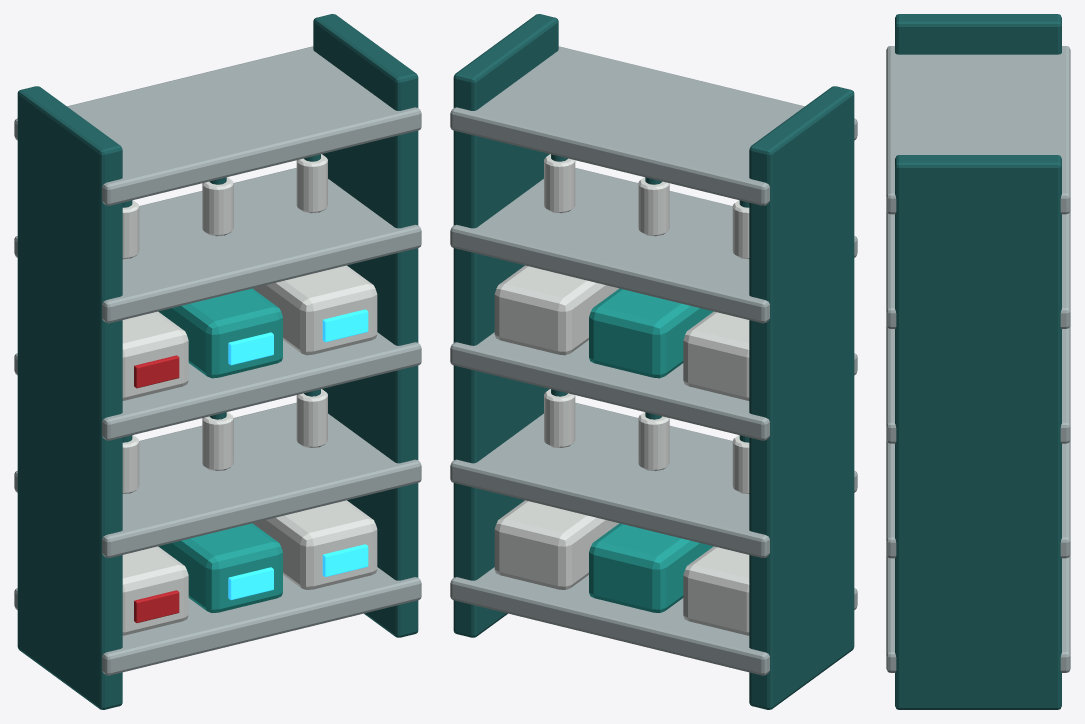
File: MH19_Medical_Supply_Shelf.glb
3 views of the same model, side by side, from view 1: azimuth 30°, elevation 25°; view 2: azimuth 150°, elevation 25°; view 3: azimuth 270°, elevation 25° (orthographic). The views are drawn at different scales.
Parts seen in each view (by area): view 1: Shelf_Post_-0.58, Shelf_1.94, Shelf_Post_0.58, Shelf_0.62, Shelf_1.5, Shelf_1.06, Shelf_0.18, Supply_Box_3_3, Supply_Box_1_3, Supply_Box_1_2, Supply_Box_3_2, Supply_Box_1_1 (+13 smaller); view 2: Shelf_Post_-0.58, Shelf_1.94, Shelf_Post_0.58, Shelf_0.62, Shelf_1.5, Shelf_1.06, Shelf_0.18, Supply_Box_3_3, Supply_Box_1_3, Supply_Box_1_2, Supply_Box_3_2, Supply_Box_1_1 (+7 smaller); view 3: Shelf_Post_0.58, Shelf_1.94, Shelf_Post_-0.58, Shelf_0.62, Shelf_0.18, Shelf_1.06, Shelf_1.5.
Part boxes in pixels (x1=…): Shelf_Post_-0.58: x1=17, y1=86, x2=122, y2=709; Shelf_1.94: x1=14, y1=46, x2=421, y2=205; Shelf_Post_0.58: x1=313, y1=14, x2=418, y2=637; Shelf_0.62: x1=14, y1=402, x2=421, y2=557; Shelf_1.5: x1=14, y1=168, x2=421, y2=323; Shelf_1.06: x1=14, y1=332, x2=421, y2=440; Shelf_0.18: x1=14, y1=567, x2=421, y2=675; Supply_Box_3_3: x1=253, y1=265, x2=377, y2=355; Supply_Box_1_3: x1=253, y1=500, x2=377, y2=589; Supply_Box_1_2: x1=158, y1=523, x2=282, y2=612; Supply_Box_3_2: x1=158, y1=288, x2=282, y2=378; Supply_Box_1_1: x1=122, y1=546, x2=188, y2=635; Shelf_Post_-0.58: x1=749, y1=86, x2=854, y2=709; Shelf_1.94: x1=450, y1=46, x2=857, y2=205; Shelf_Post_0.58: x1=453, y1=14, x2=558, y2=637; Shelf_0.62: x1=450, y1=402, x2=857, y2=557; Shelf_1.5: x1=450, y1=168, x2=857, y2=323; Shelf_1.06: x1=450, y1=332, x2=857, y2=440; Shelf_0.18: x1=450, y1=567, x2=857, y2=675; Supply_Box_3_3: x1=494, y1=265, x2=618, y2=355; Supply_Box_1_3: x1=494, y1=500, x2=618, y2=589; Supply_Box_1_2: x1=589, y1=523, x2=713, y2=612; Supply_Box_3_2: x1=589, y1=288, x2=713, y2=378; Supply_Box_1_1: x1=683, y1=546, x2=749, y2=635; Shelf_Post_0.58: x1=895, y1=155, x2=1061, y2=709; Shelf_1.94: x1=886, y1=46, x2=1070, y2=214; Shelf_Post_-0.58: x1=895, y1=14, x2=1061, y2=54; Shelf_0.62: x1=886, y1=440, x2=1070, y2=558; Shelf_0.18: x1=886, y1=554, x2=1070, y2=672; Shelf_1.06: x1=886, y1=325, x2=1070, y2=443; Shelf_1.5: x1=886, y1=211, x2=1070, y2=328.
Size of the model in its own units: 1.25 by 2.1 by 0.64.
